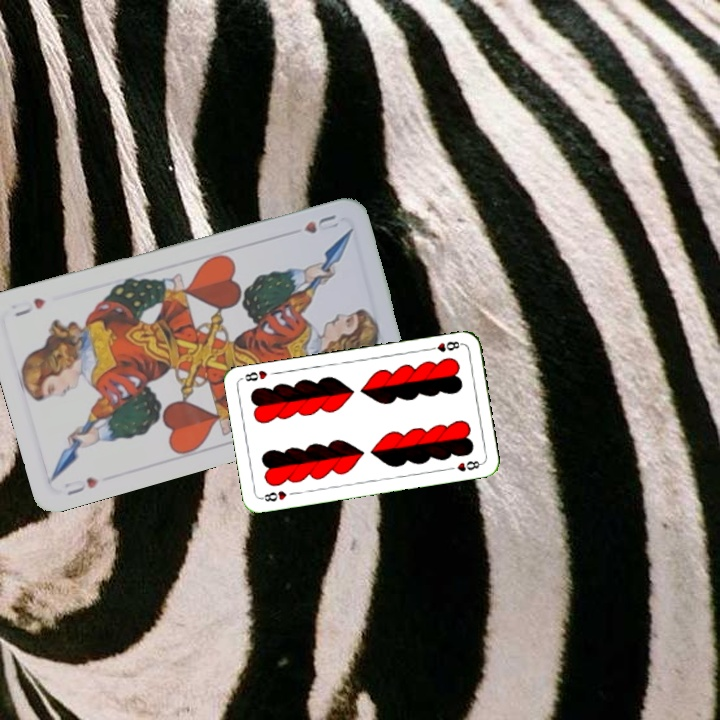H8: (424, 337, 465, 354), (257, 487, 289, 504)
HU: (300, 210, 342, 236), (63, 473, 101, 498)
